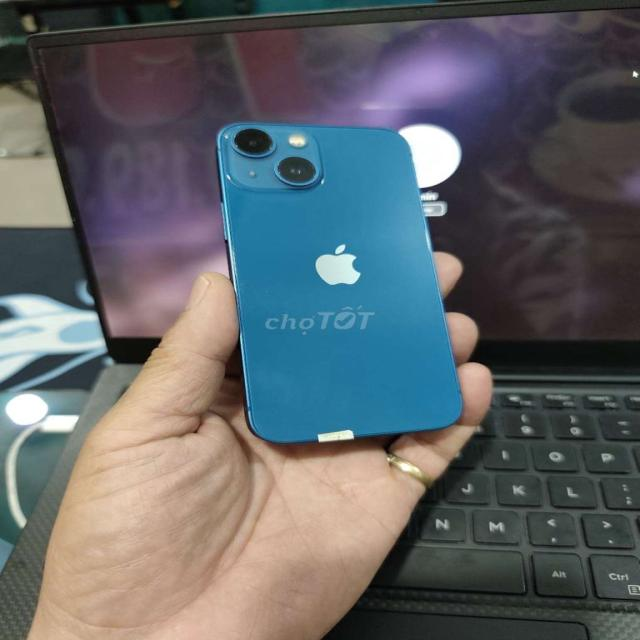gen_12_13: (215, 112, 469, 450)
